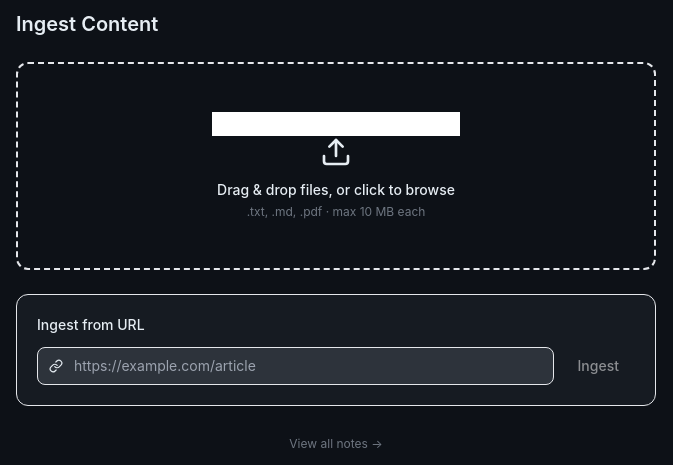
Test: IngestPage › enables ingest button when URL has value
Type "https://example.com" into the field with placeholder "https://example.com/article" at (295,366), box [37,347,554,385]
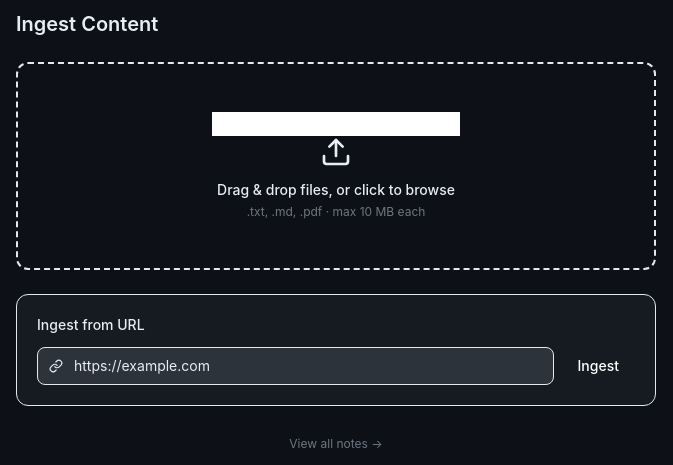
Result: the button "Ingest" is enabled at [562,347,635,385]
